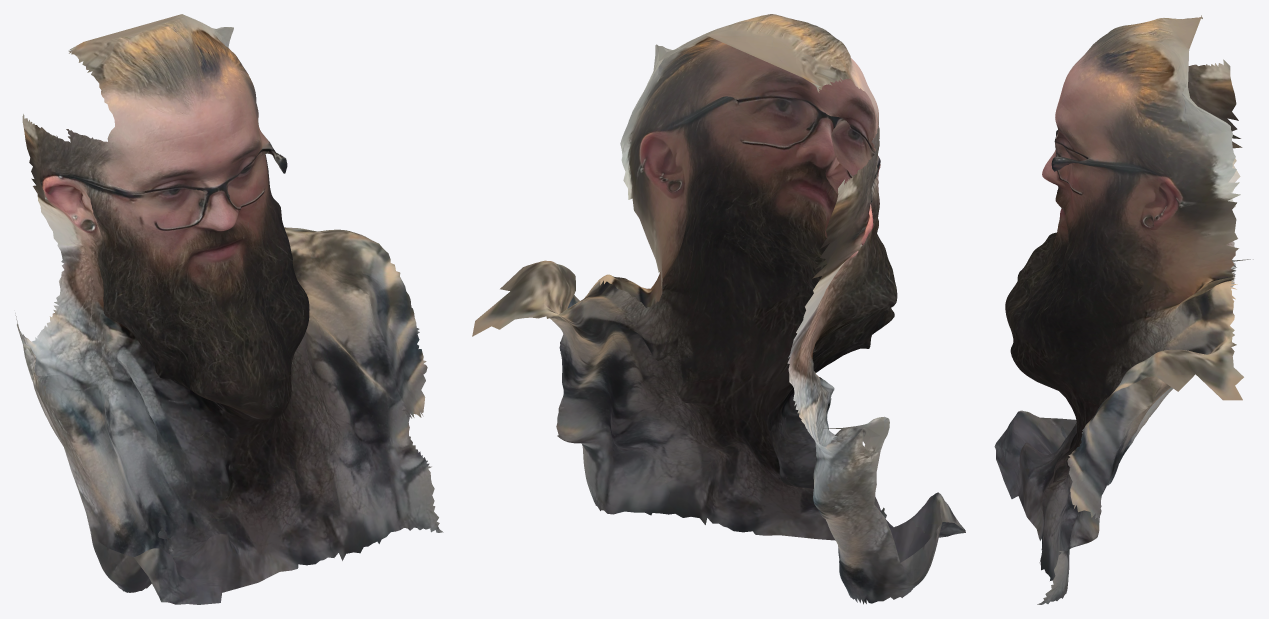
The model's file is joshua.glb.
3 renders of one model, left to right at view 1: azimuth 30°, elevation 25°; view 2: azimuth 150°, elevation 25°; view 3: azimuth 270°, elevation 25°, orthographic. The views are drawn at different scales.
Parts seen in each view (by area): view 1: Joshua; view 2: Joshua; view 3: Joshua.
Part boxes in pixels (box(x1,y1,x2,y2)): Joshua: box(15, 14, 443, 604); Joshua: box(472, 14, 965, 604); Joshua: box(994, 15, 1253, 604).
Bounding box in the file's own units: 0.9739 × 1.39 × 0.6746.
Materials: 1 (1 with a texture image).
